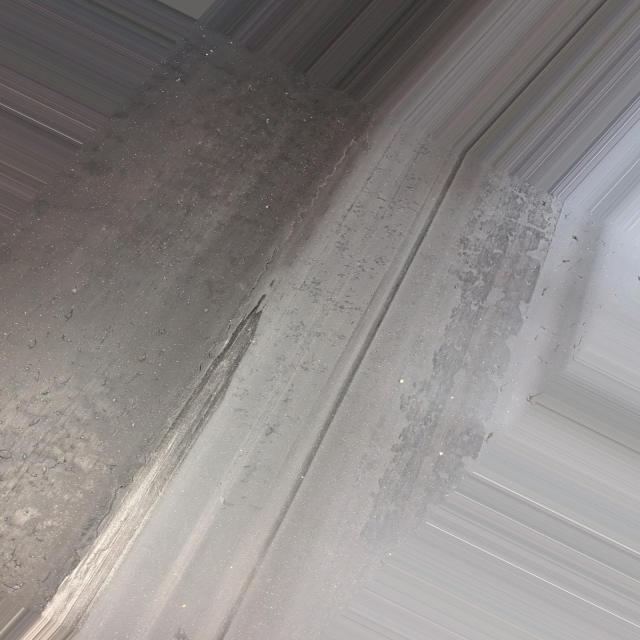Wear: (35, 284, 276, 628)
